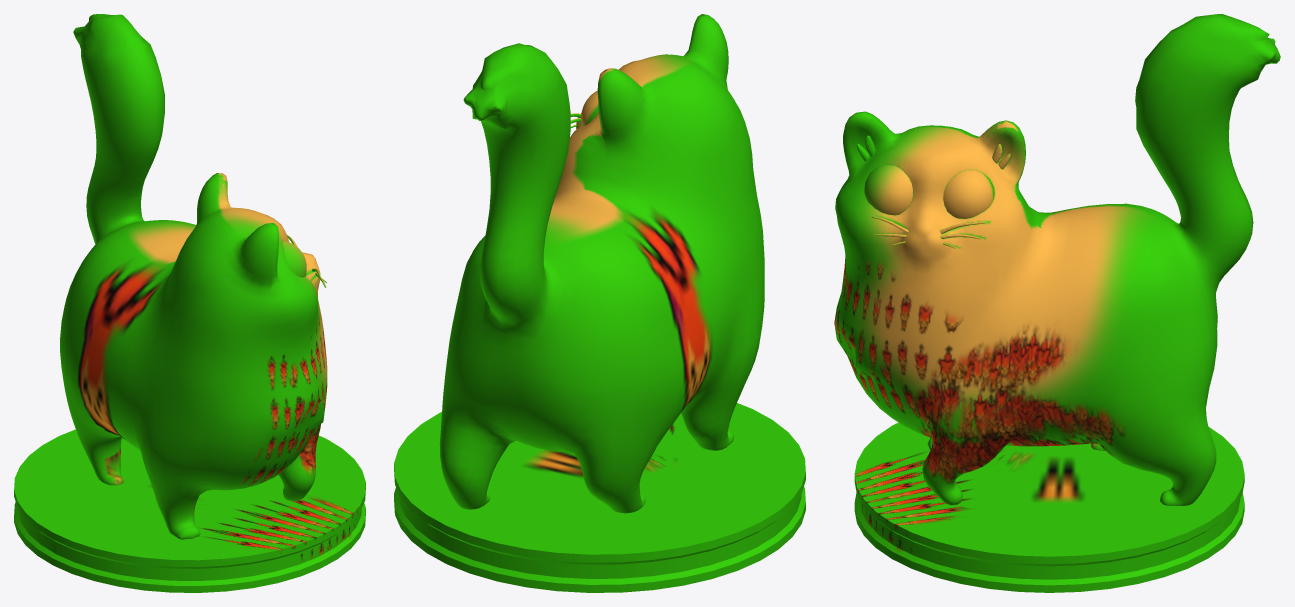
The model's file is blenderdemosystems.fbx.
3 views of the same model, side by side, from view 1: azimuth 30°, elevation 25°; view 2: azimuth 150°, elevation 25°; view 3: azimuth 270°, elevation 25° (orthographic). The views are drawn at different scales.
Visible parts, largest first — view 1: Cat_LP3.002; view 2: Cat_LP3.002; view 3: Cat_LP3.002.
Part boxes in pixels (x1,y1,x2,y2): Cat_LP3.002: [14, 14, 365, 592]; Cat_LP3.002: [394, 14, 805, 592]; Cat_LP3.002: [834, 14, 1280, 592].
Size of the model in its own units: 223 by 311 by 255.
